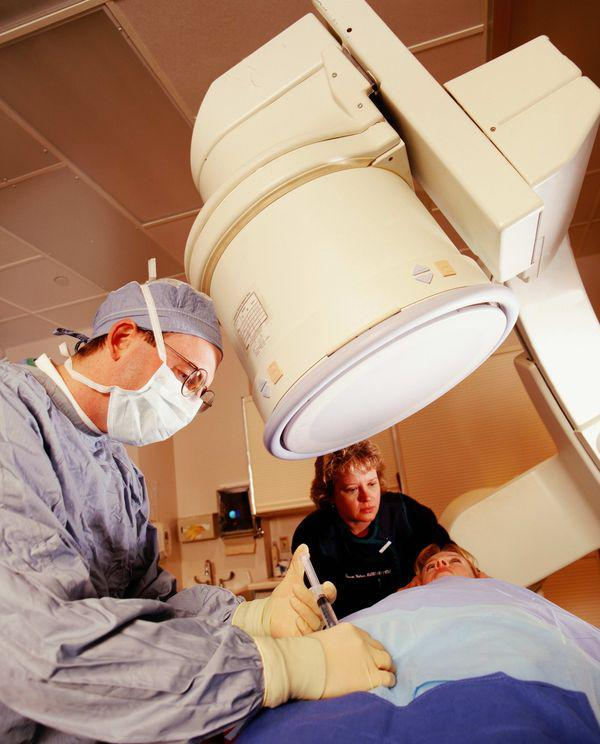NONE: (341, 465, 383, 525), (419, 554, 476, 589)
OK: (115, 350, 220, 447)
